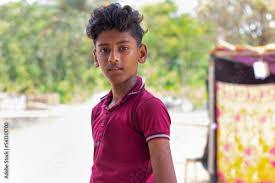Human: (71, 5, 176, 181)
